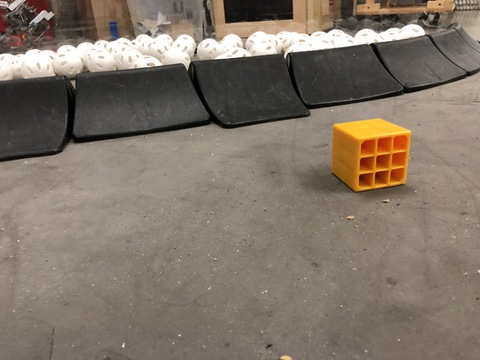block: (314, 116, 431, 193)
